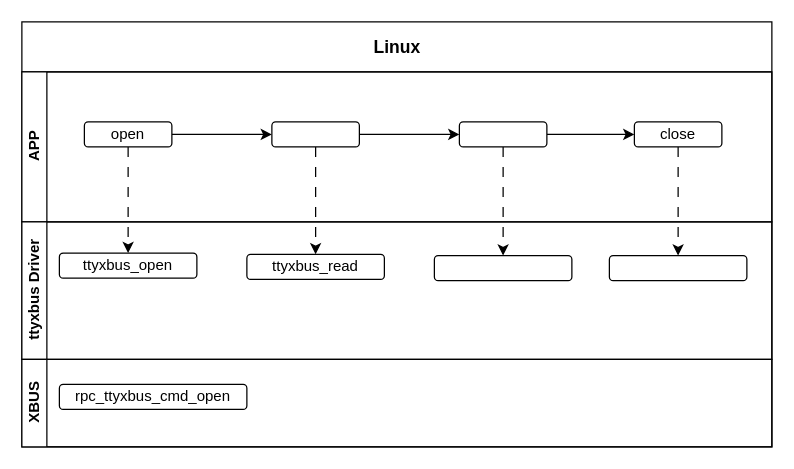
Image size: 794x469. Some labels were removed from this diagram. The shapes that lost their labels are listed below. From the top down, each one's centre as x and y in pixels, then its label:
pixel 315 134: read
pixel 502 134: write
pixel 502 267: ttyxbus_write
pixel 677 267: ttyxbus_release
